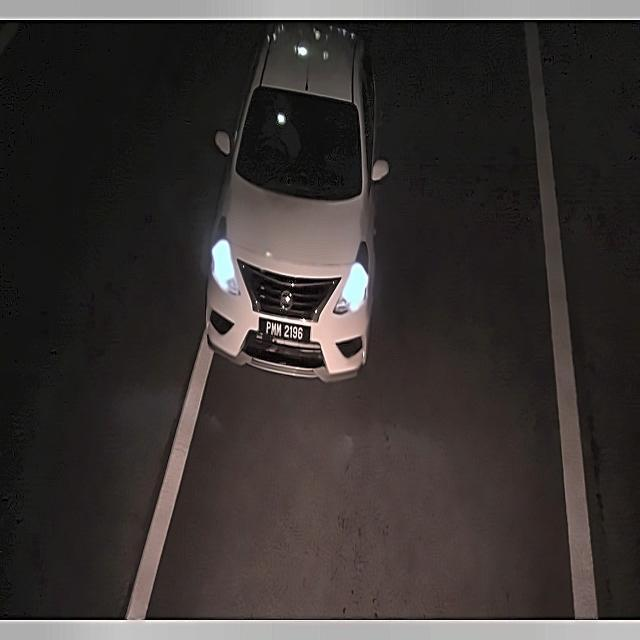car: (255, 310, 315, 352)
